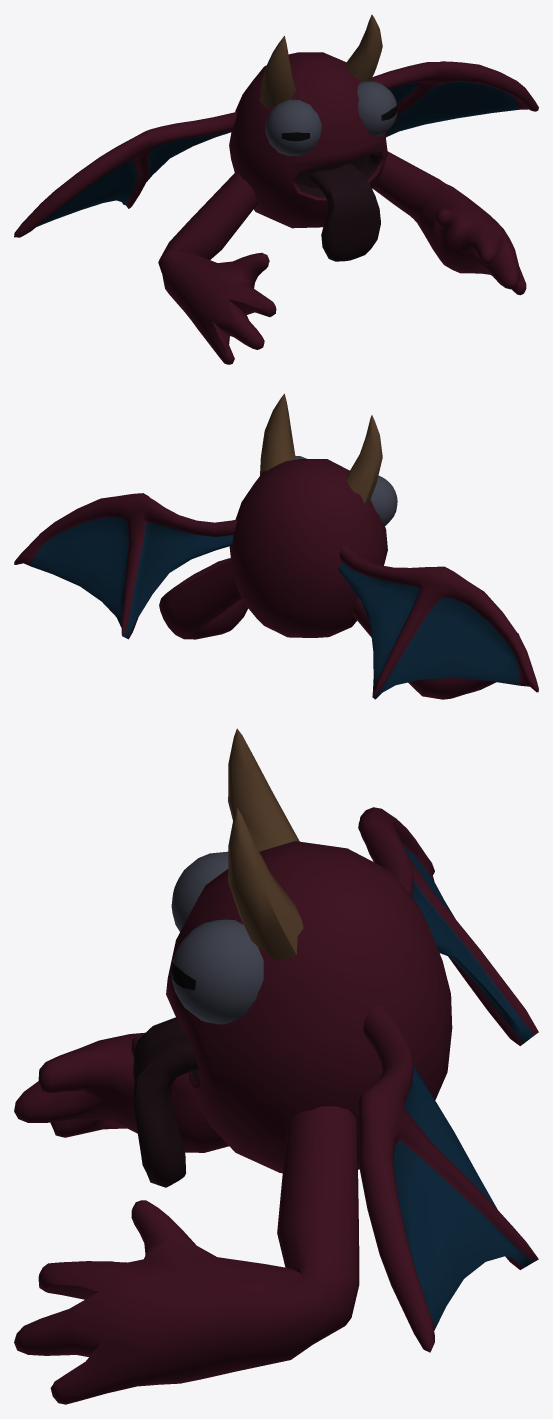
Rendered from Squidle.obj.
3 renders of one model, top to bottom at view 1: azimuth 30°, elevation 25°; view 2: azimuth 150°, elevation 25°; view 3: azimuth 270°, elevation 25°, orthographic. The views are drawn at different scales.
Parts seen in each view (by area): view 1: Squidle.002_Cube.001; view 2: Squidle.002_Cube.001; view 3: Squidle.002_Cube.001.
Part boxes in pixels (x1,y1,x2,y2): Squidle.002_Cube.001: (14,14,538,364); Squidle.002_Cube.001: (14,393,538,699); Squidle.002_Cube.001: (14,728,538,1404).
Size of the model in its own units: 4.9 by 2.42 by 2.28.
